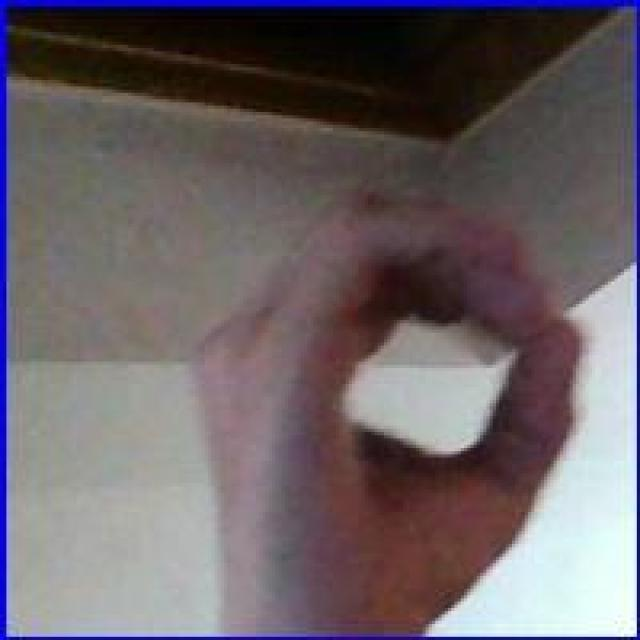O: (187, 179, 584, 608)
